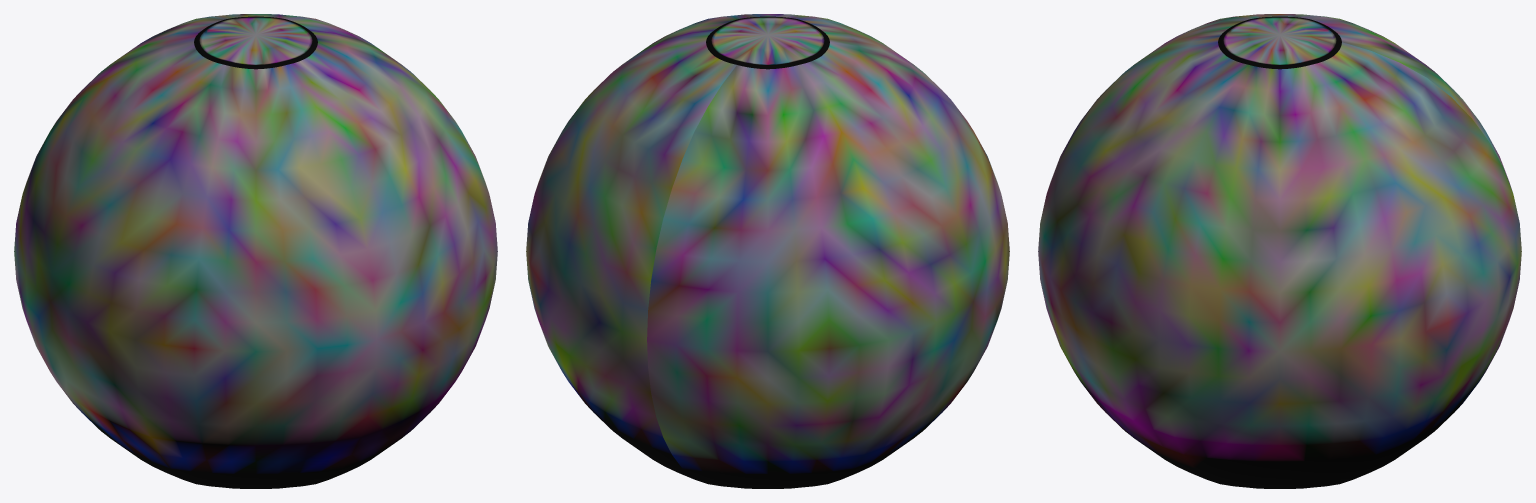
File: Ball_Beachball_SM.gltf
The picture shows the model from 3 angles, left to right: view 1: azimuth 30°, elevation 25°; view 2: azimuth 150°, elevation 25°; view 3: azimuth 270°, elevation 25°; orthographic projection.
Parts seen in each view (by area): view 1: Ball_Beachball_SM; view 2: Ball_Beachball_SM; view 3: Ball_Beachball_SM.
Boxes of the visible parts, box(x1,y1,x2,y2) form: Ball_Beachball_SM: box(14, 14, 497, 488); Ball_Beachball_SM: box(526, 14, 1009, 488); Ball_Beachball_SM: box(1038, 14, 1521, 488).
Size of the model in its own units: 1.83 by 1.84 by 1.87.
